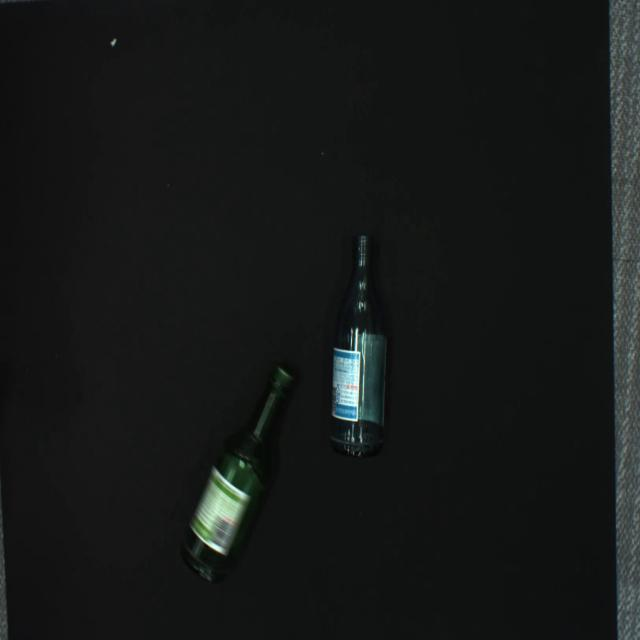soju-bottle: (178, 367, 294, 584), (330, 236, 386, 457)
